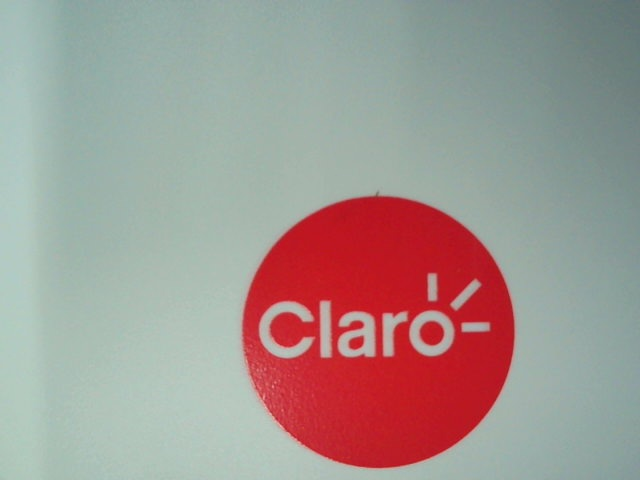BC_ClaorRed: (235, 190, 519, 462)
